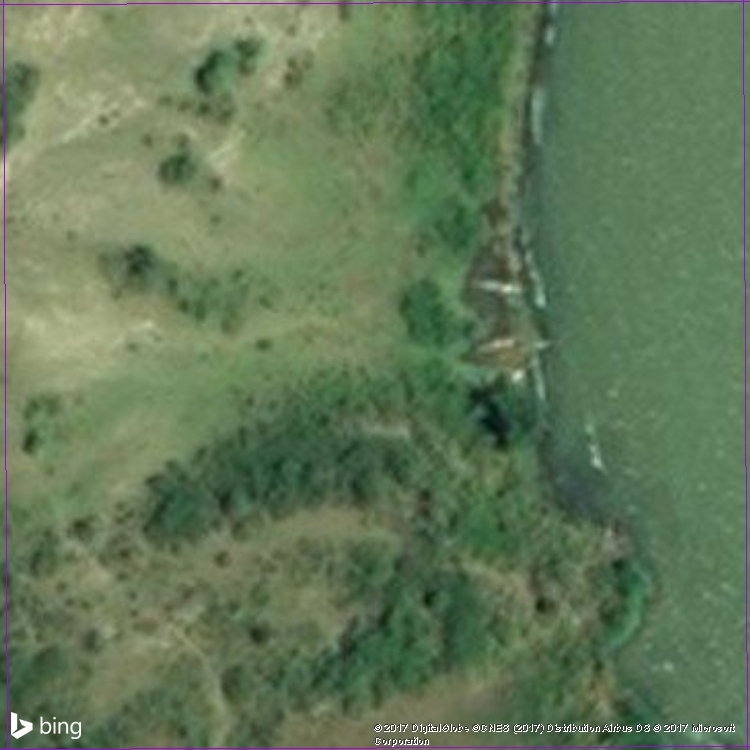boat: (465, 328, 520, 360), (458, 275, 527, 300)
